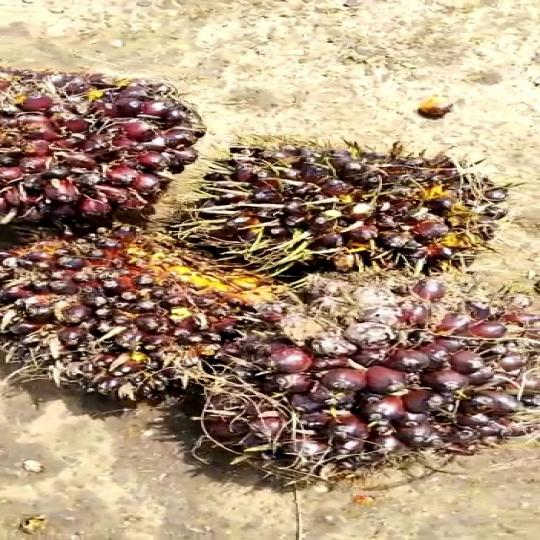kurang masak: (164, 264, 540, 486), (184, 135, 540, 289), (0, 209, 270, 407), (0, 58, 189, 232)
